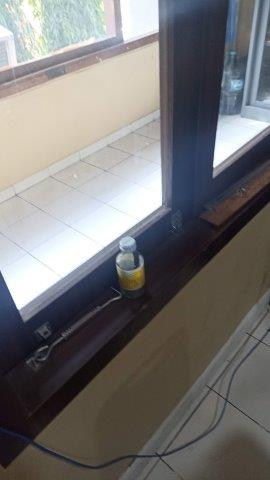botolkaca: (115, 238, 146, 303)
